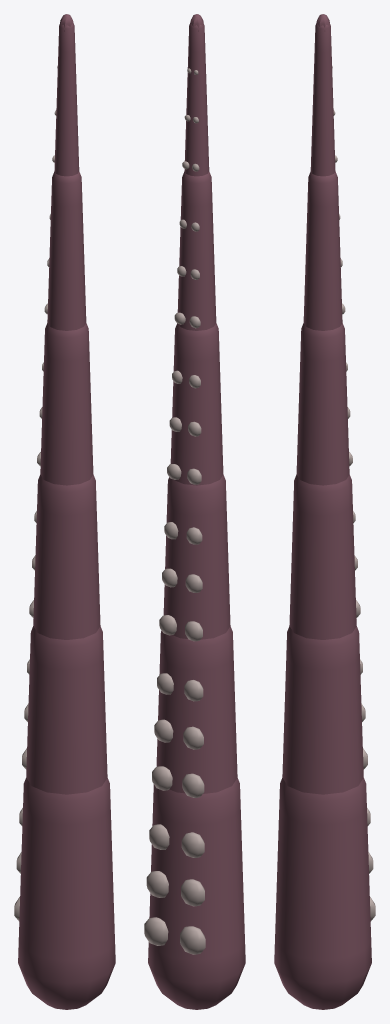
The model's file is sea_kraken_arm.gltf.
3 views of the same model, side by side, from view 1: azimuth 30°, elevation 25°; view 2: azimuth 150°, elevation 25°; view 3: azimuth 330°, elevation 25° (orthographic).
Parts seen in each view (by area): view 1: Seg1, Seg2, Seg3, Seg4, Seg5, Seg6; view 2: Seg1, Seg2, Seg3, Seg4, Seg5, Seg6; view 3: Seg1, Seg2, Seg3, Seg4, Seg5, Seg6.
Boxes of the visible parts, x1=… form: Seg1: x1=14, y1=778, x2=115, y2=1009; Seg2: x1=22, y1=626, x2=107, y2=794; Seg3: x1=29, y1=474, x2=100, y2=639; Seg4: x1=37, y1=323, x2=93, y2=485; Seg5: x1=44, y1=171, x2=86, y2=330; Seg6: x1=52, y1=14, x2=79, y2=176; Seg1: x1=144, y1=778, x2=245, y2=1009; Seg2: x1=152, y1=626, x2=237, y2=797; Seg3: x1=159, y1=474, x2=230, y2=641; Seg4: x1=167, y1=323, x2=223, y2=485; Seg5: x1=174, y1=171, x2=216, y2=330; Seg6: x1=182, y1=14, x2=209, y2=176; Seg1: x1=274, y1=778, x2=375, y2=1009; Seg2: x1=282, y1=626, x2=367, y2=794; Seg3: x1=289, y1=474, x2=360, y2=639; Seg4: x1=296, y1=323, x2=352, y2=485; Seg5: x1=303, y1=171, x2=345, y2=330; Seg6: x1=310, y1=14, x2=337, y2=176.
Size of the model in its own units: 0.76 by 8.46 by 0.7871.
